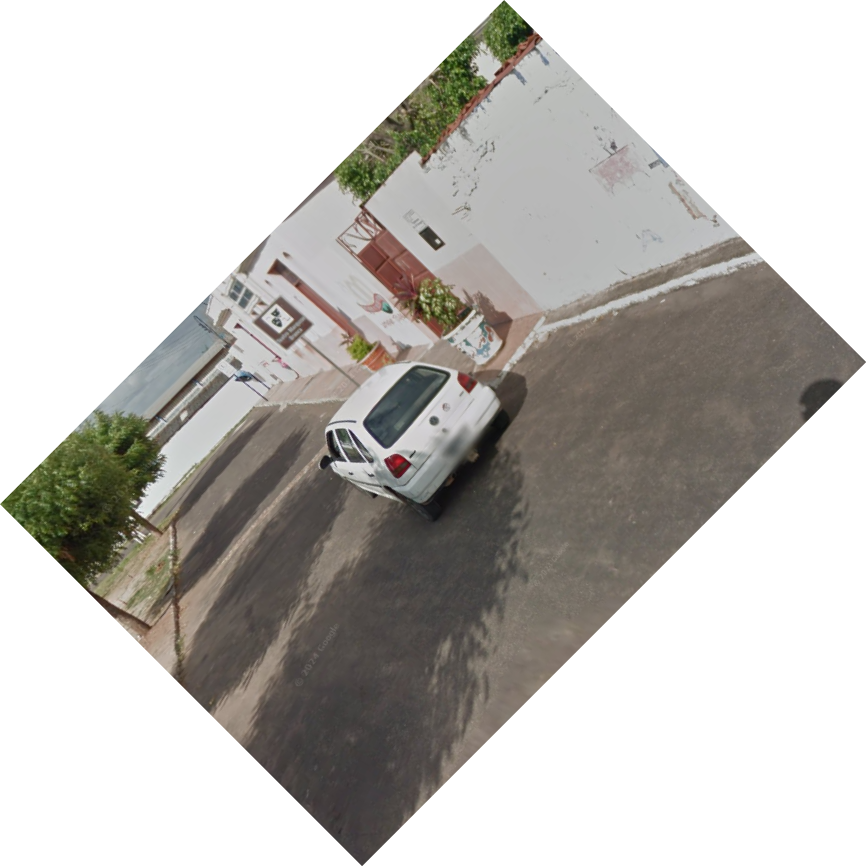car: (315, 358, 506, 526)
